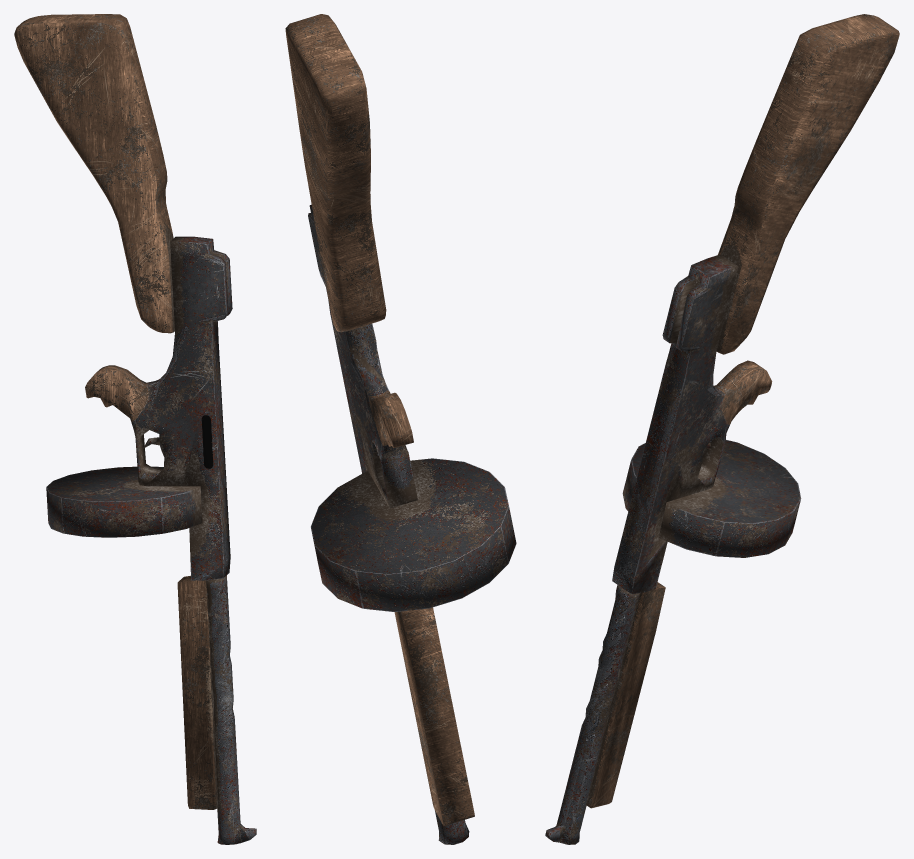
The model's file is Anim_idle_ametralladora_objetos.0029.obj.
3 renders of one model, left to right at view 1: azimuth 30°, elevation 25°; view 2: azimuth 150°, elevation 25°; view 3: azimuth 270°, elevation 25°, orthographic. The views are drawn at different scales.
Parts seen in each view (by area): view 1: Ametralladora1; view 2: Ametralladora1; view 3: Ametralladora1.
Boxes of the visible parts, bbox=[...] form: Ametralladora1: bbox=[14, 14, 256, 844]; Ametralladora1: bbox=[285, 14, 516, 844]; Ametralladora1: bbox=[545, 14, 899, 844].
Bounding box in the file's own units: 1.34 × 5.83 × 2.33.
